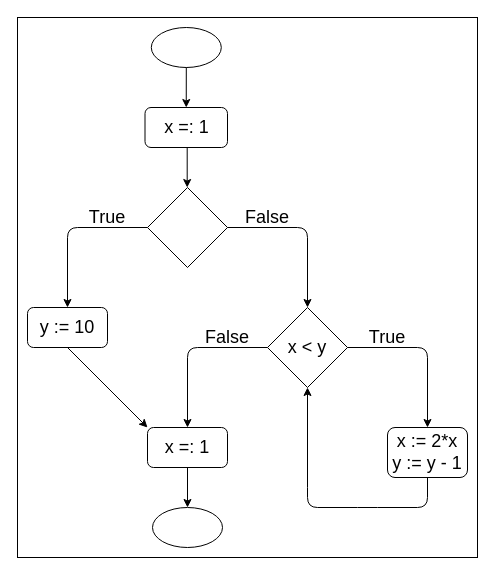
This 495x575 diagram has some shape labels left out. Here are the shapes that lost their labels. From the top down, the centre of each, then its label:
(x=185, y=47): Start
(x=187, y=227): y < 10
(x=187, y=527): Exit
